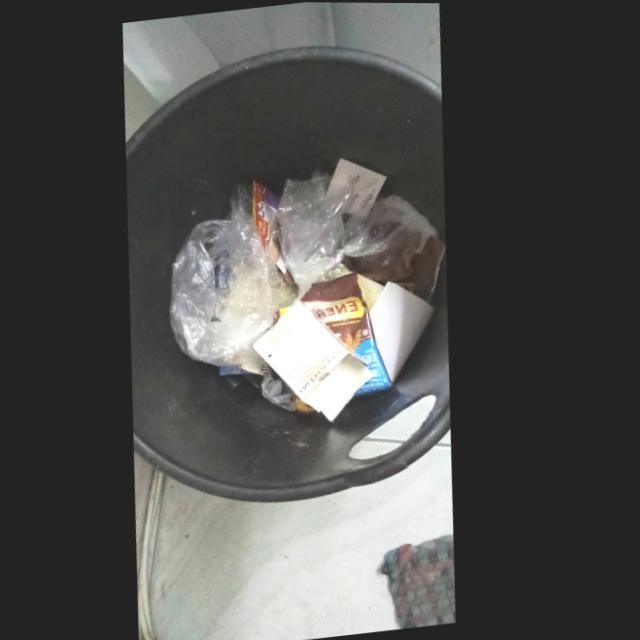cardboard: (261, 300, 382, 420)
food_wrapper: (307, 270, 403, 395)
